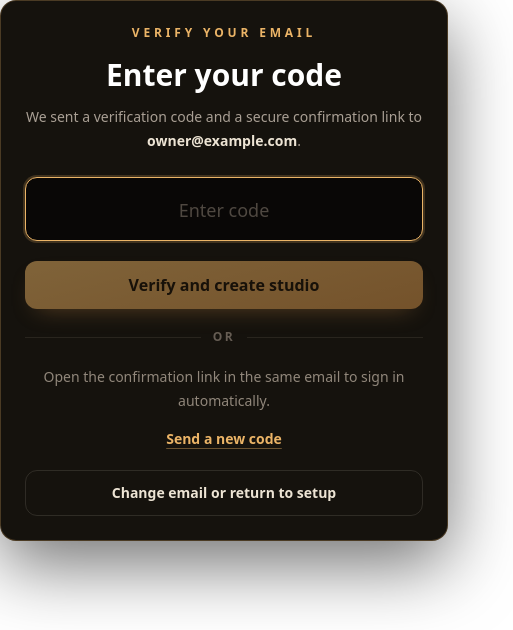
Test case: CheckEmailClient › caps input at ten digits and ignores non-digits
In the field named "Email verification code": (224, 209) top-left (25, 177), bottom-right (423, 241), type "12-34 56ab789012"
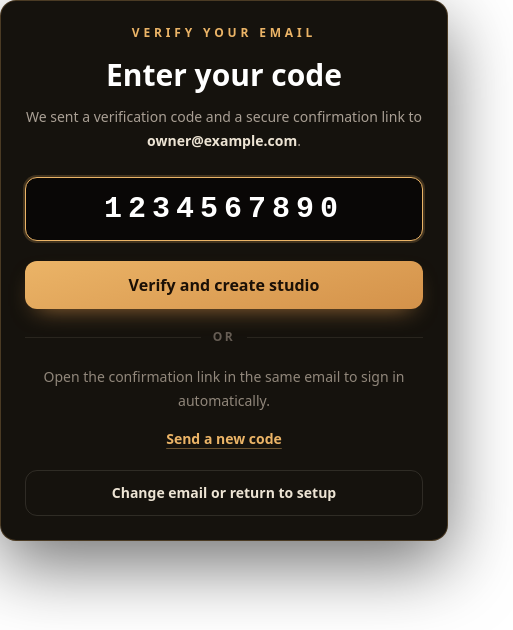
Expected: the field named "Email verification code" holds "1234567890", top-left (25, 177), bottom-right (423, 241)
